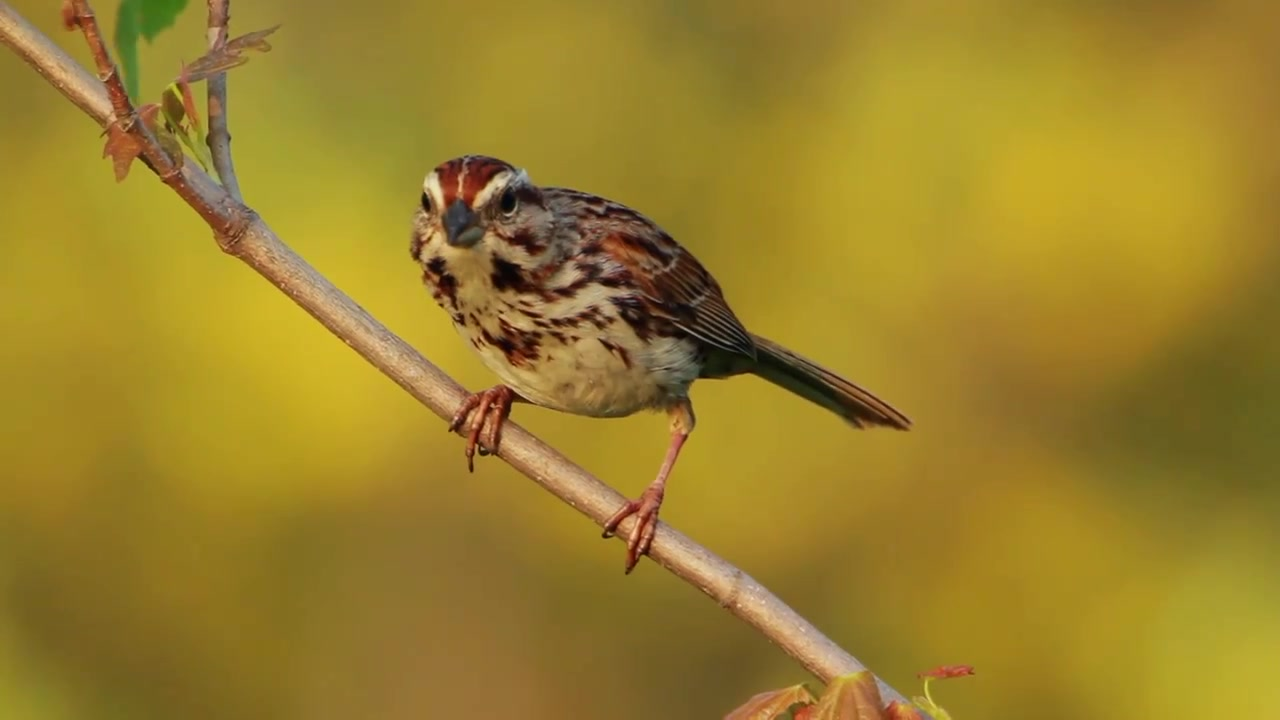bird: (409, 154, 915, 576)
